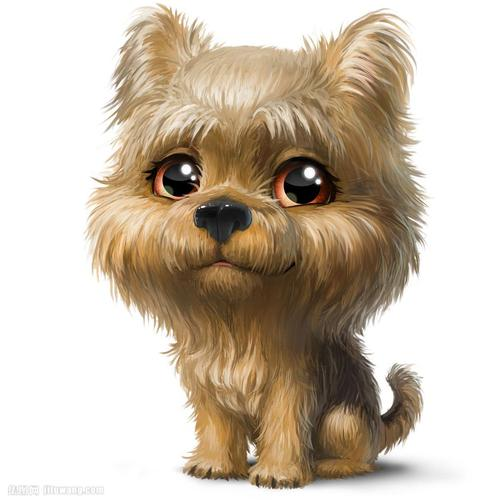dog: (92, 16, 450, 326)
